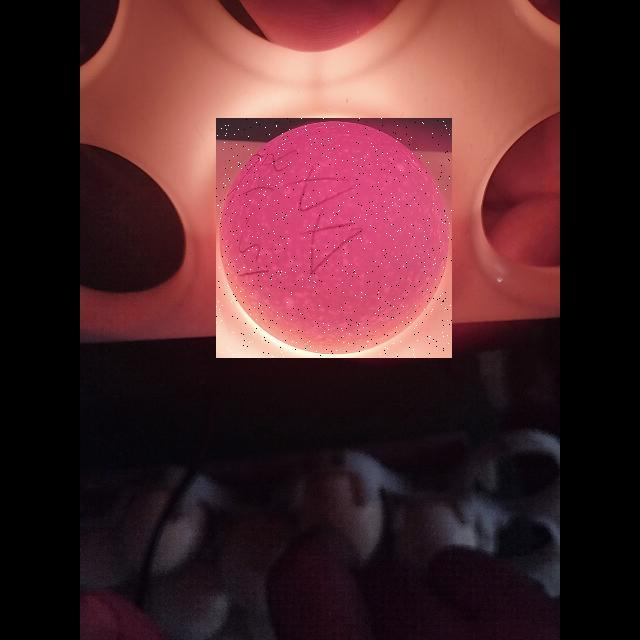Infertile: (216, 118, 452, 358)
